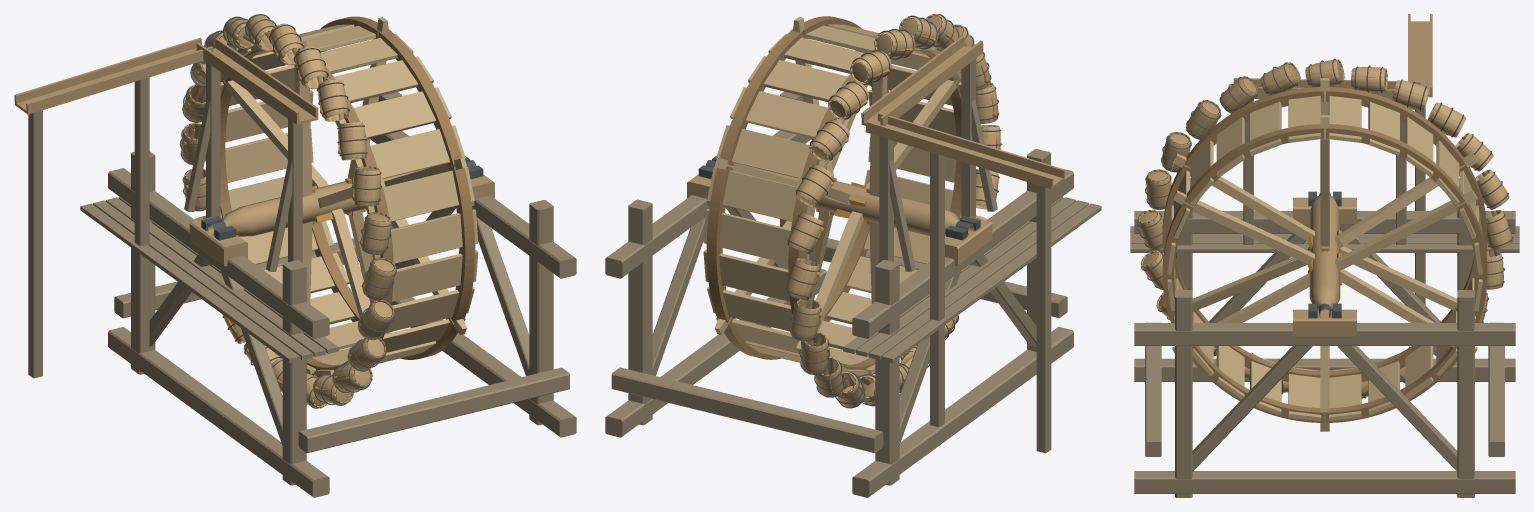
File: KS-Rekonstruktion-V2.glb
3 renders of one model, left to right at view 1: azimuth 30°, elevation 25°; view 2: azimuth 150°, elevation 25°; view 3: azimuth 270°, elevation 25°, orthographic. The views are drawn at different scales.
Visible parts, largest first — view 1: CTX-CROSS--2.25, CTX-RAIL--1--2.48, CTX-RAIL--1--0.34, CAND-CHANNEL, CTX-CHANNEL-SUPPORT--2.1, CTX-POST-1--1.85, CTX-CHANNEL-SUPPORT--3.6, CTX-POST--1--1.85, CAND-TROUGH, CTX-WALK-3, CTX-RAIL-1--2.48, CTX-RAIL-1--0.34 (+50 smaller); view 2: CTX-CROSS-2.25, CTX-RAIL--1--2.48, CAND-CHANNEL, CTX-RAIL--1--0.34, CTX-CHANNEL-SUPPORT--3.6, CTX-POST-1-1.85, CTX-CHANNEL-SUPPORT--2.1, CTX-POST--1-1.85, CAND-TROUGH, CTX-RAIL-1--2.48, CTX-RAIL-1--0.34, CTX-WALK-3 (+56 smaller); view 3: CTX-RAIL-1--2.48, CTX-RAIL-1--0.34, CTX-POST-1--1.85, CTX-POST-1-1.85, HIST-ARM-LAND-3-6, HIST-ARM-WATER-3-6, HIST-ARM-WATER-2-5, HIST-ARM-LAND-2-5, CTX-RAIL--1--0.34, HYP-SHAFT, CTX-BRACE-1--1, CTX-BRACE-1-1 (+63 smaller).
Boxes of the visible parts, left/top/right/bottom form: CTX-CROSS--2.25: left=298, top=367, right=569, bottom=453; CTX-RAIL--1--2.48: left=108, top=327, right=329, bottom=497; CTX-RAIL--1--0.34: left=108, top=168, right=329, bottom=338; CAND-CHANNEL: left=14, top=38, right=213, bottom=114; CTX-CHANNEL-SUPPORT--2.1: left=134, top=77, right=149, bottom=352; CTX-POST-1--1.85: left=529, top=200, right=553, bottom=425; CTX-CHANNEL-SUPPORT--3.6: left=28, top=110, right=42, bottom=378; CTX-POST--1--1.85: left=282, top=260, right=306, bottom=485; CAND-TROUGH: left=196, top=38, right=318, bottom=124; CTX-WALK-3: left=80, top=203, right=300, bottom=363; CTX-RAIL-1--2.48: left=360, top=269, right=576, bottom=437; CTX-RAIL-1--0.34: left=370, top=131, right=576, bottom=278; CTX-CROSS-2.25: left=611, top=367, right=883, bottom=453; CTX-RAIL--1--2.48: left=852, top=326, right=1073, bottom=497; CAND-CHANNEL: left=865, top=112, right=1065, bottom=189; CTX-RAIL--1--0.34: left=852, top=169, right=1073, bottom=338; CTX-CHANNEL-SUPPORT--3.6: left=1036, top=185, right=1051, bottom=453; CTX-POST-1-1.85: left=628, top=199, right=652, bottom=425; CTX-CHANNEL-SUPPORT--2.1: left=930, top=152, right=944, bottom=427; CTX-POST--1-1.85: left=875, top=260, right=899, bottom=485; CAND-TROUGH: left=861, top=36, right=983, bottom=126; CTX-RAIL-1--2.48: left=605, top=269, right=826, bottom=437; CTX-RAIL-1--0.34: left=605, top=130, right=811, bottom=278; CTX-WALK-3: left=881, top=203, right=1101, bottom=363; CTX-RAIL-1--2.48: left=1134, top=471, right=1515, bottom=493; CTX-RAIL-1--0.34: left=1134, top=323, right=1515, bottom=345; CTX-POST-1--1.85: left=1175, top=290, right=1192, bottom=497; CTX-POST-1-1.85: left=1457, top=290, right=1474, bottom=497; HIST-ARM-LAND-3-6: left=1192, top=153, right=1477, bottom=310; HIST-ARM-WATER-3-6: left=1172, top=190, right=1477, bottom=352; HIST-ARM-WATER-2-5: left=1172, top=190, right=1477, bottom=352; HIST-ARM-LAND-2-5: left=1172, top=153, right=1457, bottom=310; CTX-RAIL--1--0.34: left=1134, top=211, right=1515, bottom=233; HYP-SHAFT: left=1309, top=195, right=1340, bottom=317; CTX-BRACE-1--1: left=1192, top=346, right=1312, bottom=471; CTX-BRACE-1-1: left=1337, top=346, right=1457, bottom=471.
Size of the model in its own units: 5.72 by 5.12 by 5.1.
